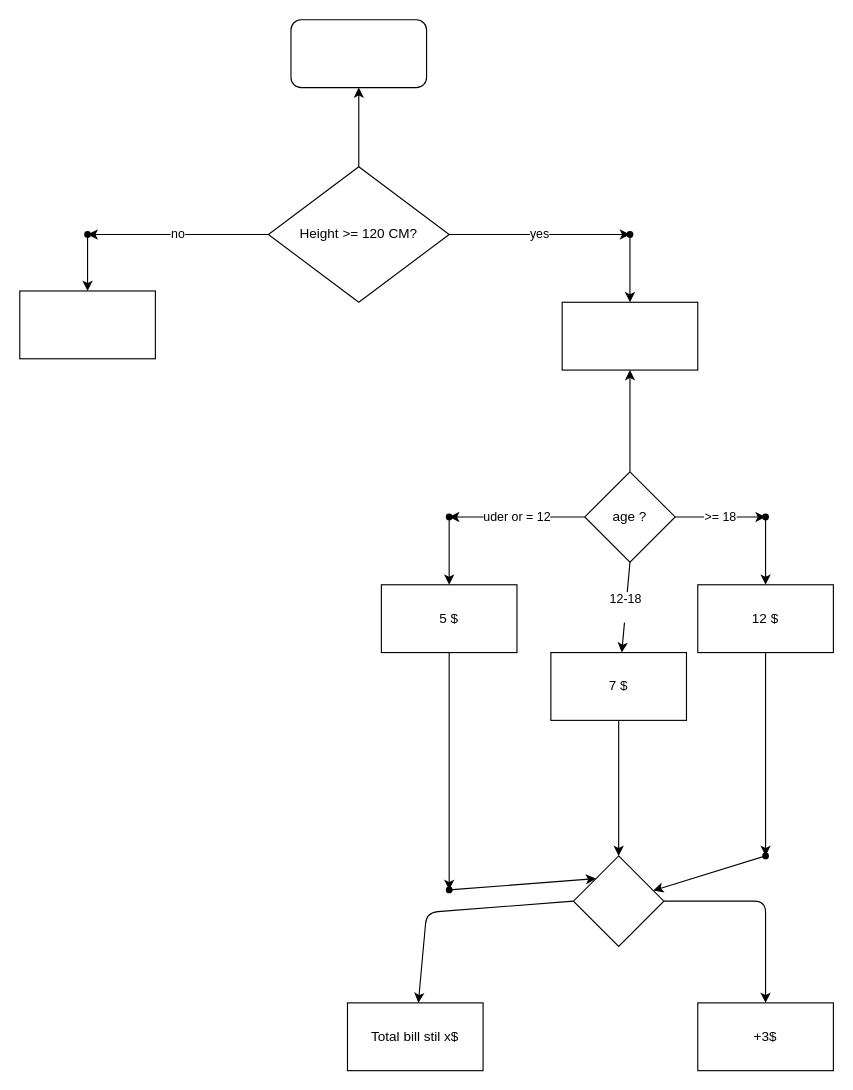
Some shapes in this 853 by 1090 pixel diagram are drawn without their labels. The centre of each missing label's shape, as x and y in pixels:
"Can ride" belongs at pixel 629 335.
"can't ride" belongs at pixel 87 324.
"Start" belongs at pixel 358 53.
"want photo ?" belongs at pixel 618 900.
